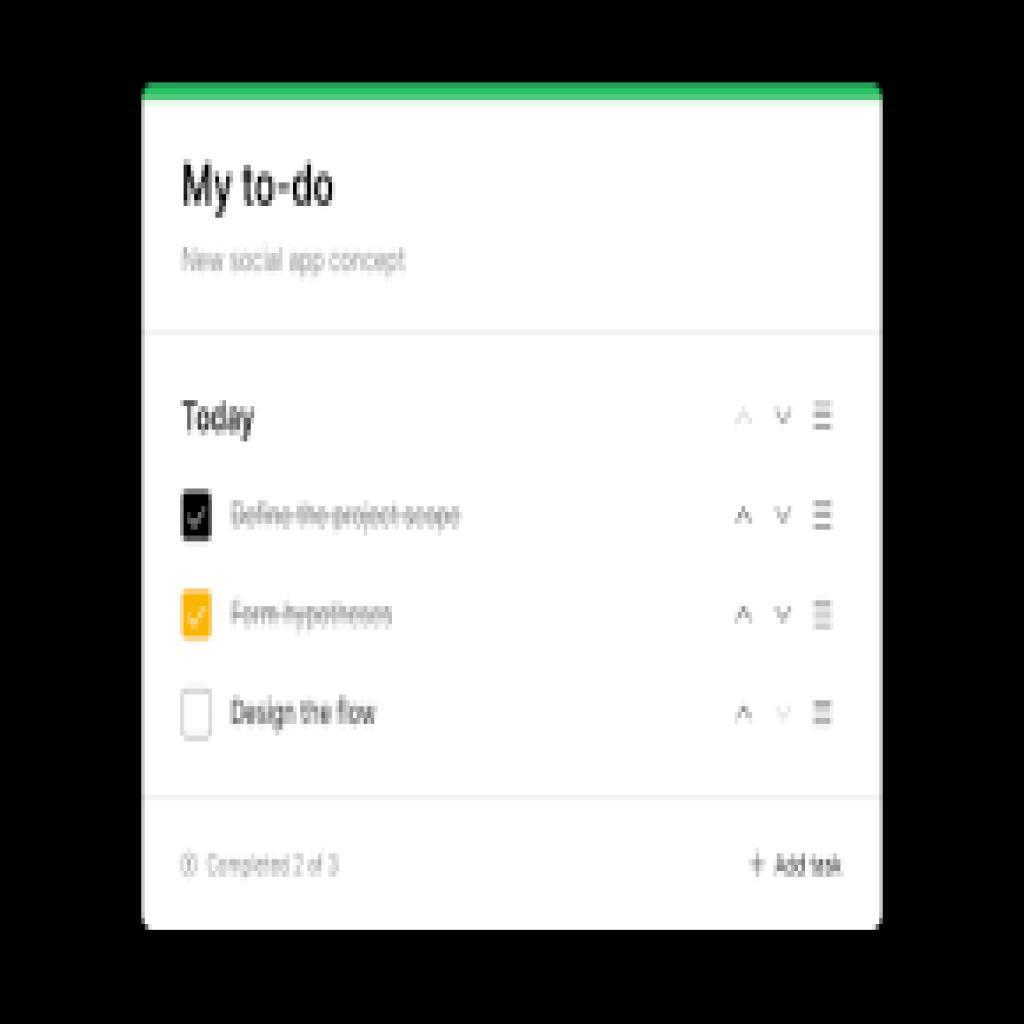checkbox: (181, 688, 214, 743), (181, 489, 214, 541), (180, 590, 213, 641)
icon: (812, 495, 841, 542), (810, 396, 837, 445), (812, 595, 840, 639), (806, 693, 836, 734)
